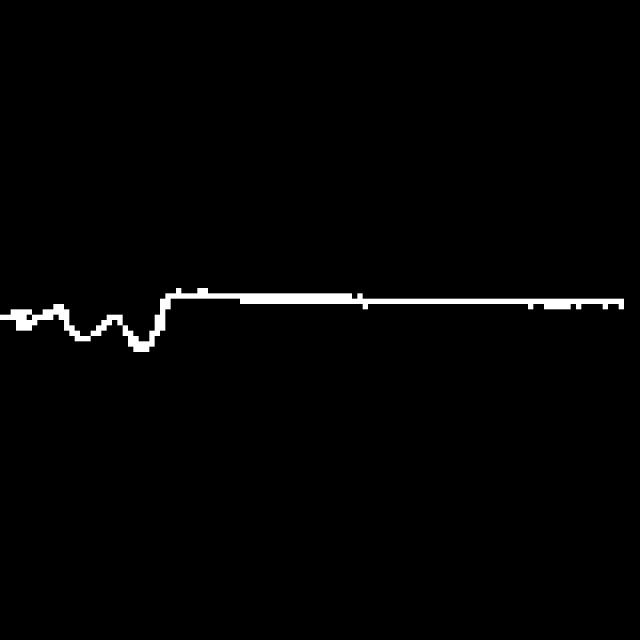resistor: (1, 253, 185, 407)
